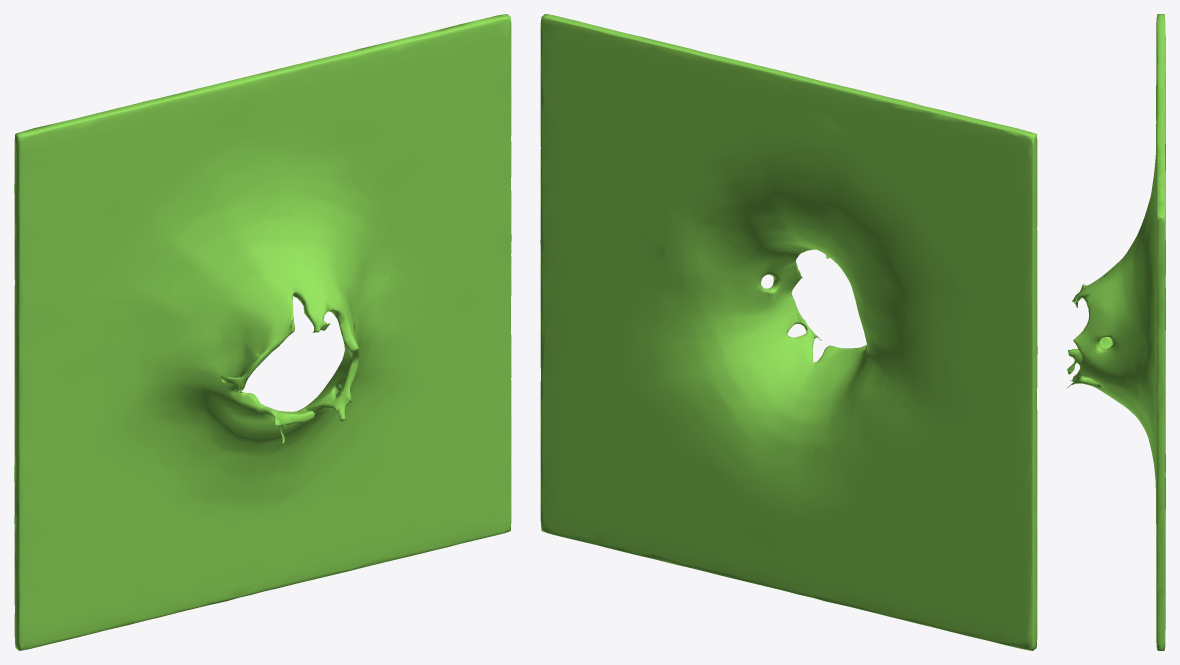
File: METAL05.fbx
3 views of the same model, side by side, from view 1: azimuth 30°, elevation 25°; view 2: azimuth 150°, elevation 25°; view 3: azimuth 270°, elevation 25° (orthographic). The views are drawn at different scales.
Visible parts, largest first — view 1: metal05; view 2: metal05; view 3: metal05.
Part boxes in pixels (bbox=[...]): metal05: bbox=[14, 14, 511, 650]; metal05: bbox=[540, 14, 1037, 650]; metal05: bbox=[1067, 14, 1165, 650].
Size of the model in its own units: 4.99 by 4.99 by 1.04.
